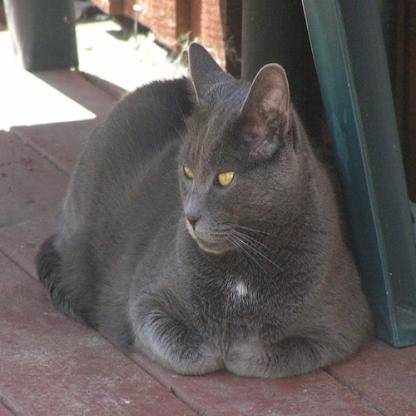cat: (36, 39, 376, 375)
